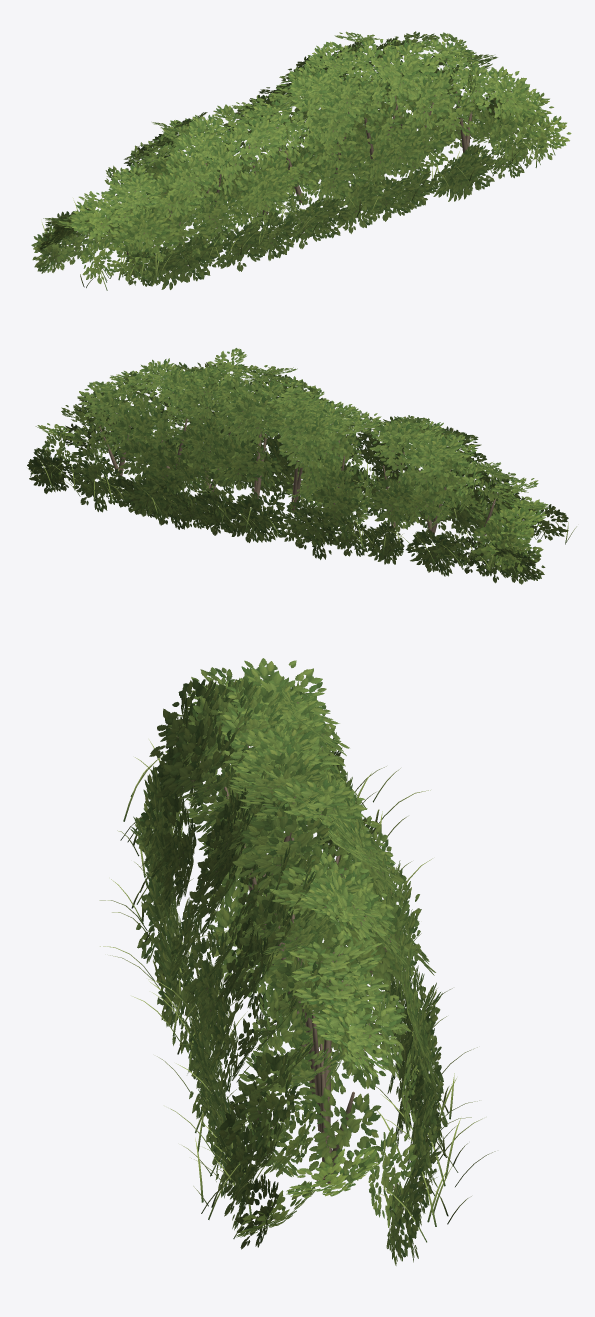
File: eco_hedgerow_LOD0.glb
The picture shows the model from 3 angles, top to bottom: view 1: azimuth 30°, elevation 25°; view 2: azimuth 150°, elevation 25°; view 3: azimuth 270°, elevation 25°; orthographic projection. The views are drawn at different scales.
Parts seen in each view (by area): view 1: eco_hedgerow_LOD0; view 2: eco_hedgerow_LOD0; view 3: eco_hedgerow_LOD0.
Boxes of the visible parts, x1,y1,x2,y2 form: eco_hedgerow_LOD0: (31,31,571,290); eco_hedgerow_LOD0: (27,348,576,584); eco_hedgerow_LOD0: (99,658,495,1265).
Bounding box in the file's own units: 4.94 × 1.69 × 1.64.
2 materials, 1 textured.
